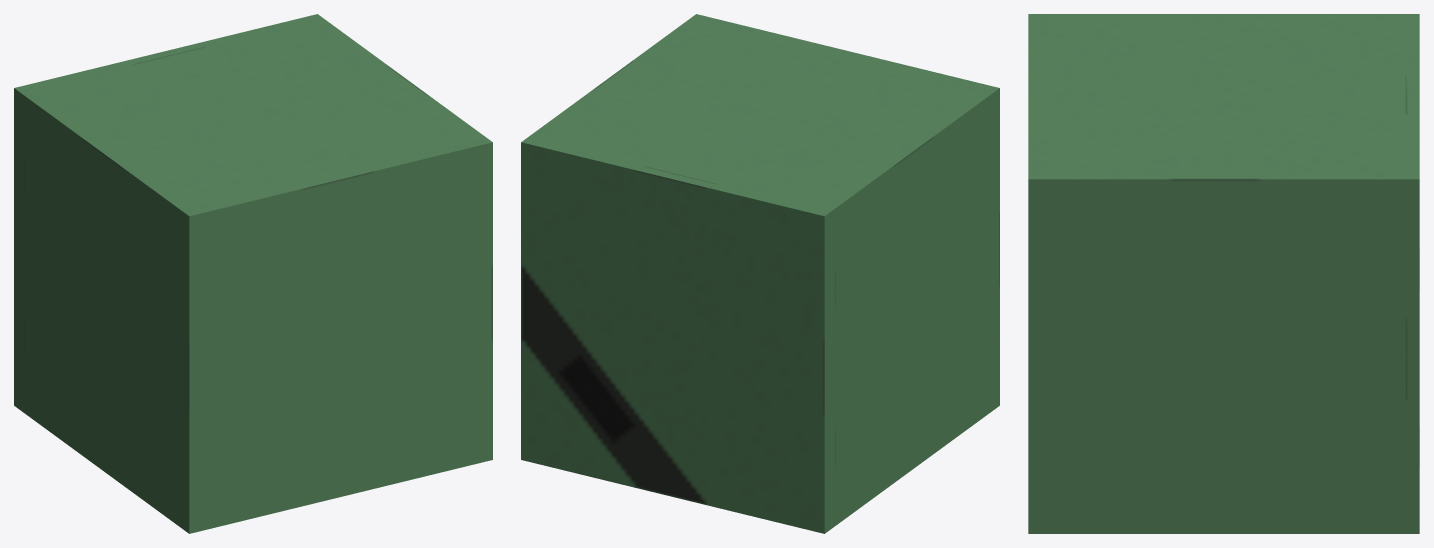
Rendered from trackdiagdownleft.obj.
The picture shows the model from 3 angles, left to right: view 1: azimuth 30°, elevation 25°; view 2: azimuth 150°, elevation 25°; view 3: azimuth 270°, elevation 25°; orthographic projection. The views are drawn at different scales.
Parts seen in each view (by area): view 1: generalCube, off; view 2: generalCube, off; view 3: generalCube, off.
Part boxes in pixels (x1=…): generalCube: x1=19, y1=18, x2=492, y2=533; off: x1=14, y1=14, x2=327, y2=413; generalCube: x1=527, y1=14, x2=999, y2=525; off: x1=521, y1=134, x2=835, y2=533; generalCube: x1=1028, y1=14, x2=1407, y2=533; off: x1=1395, y1=14, x2=1419, y2=533.
Bounding box in the file's own units: 1 × 1 × 1.
Materials: 1 (1 with a texture image).
